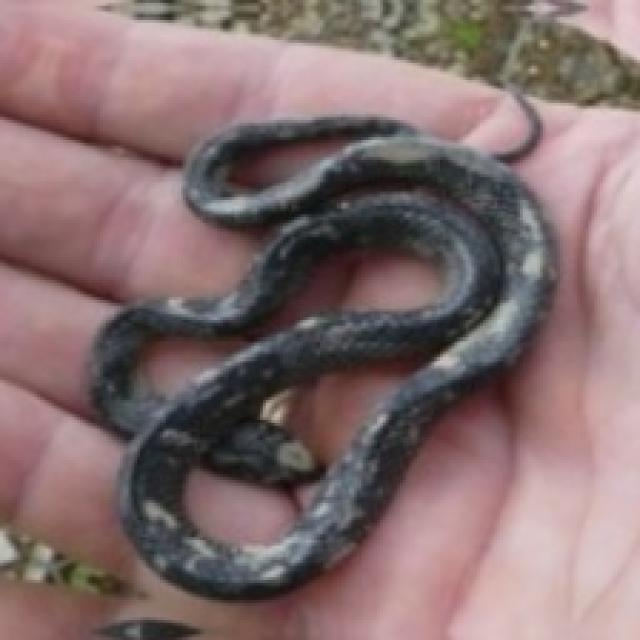gunthers philippine shrub snake: (91, 114, 551, 594), (131, 243, 446, 397), (494, 86, 544, 162)
